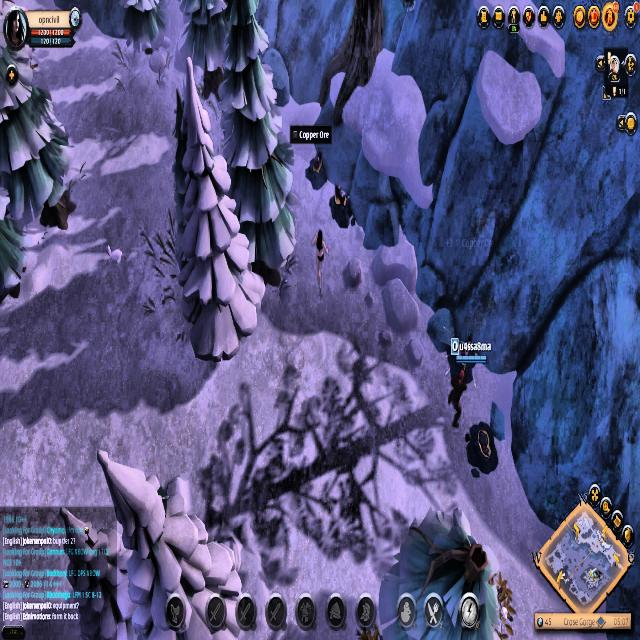copper_ore: (328, 178, 354, 233), (305, 143, 329, 193)
